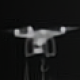plane: (12, 24, 80, 60)
